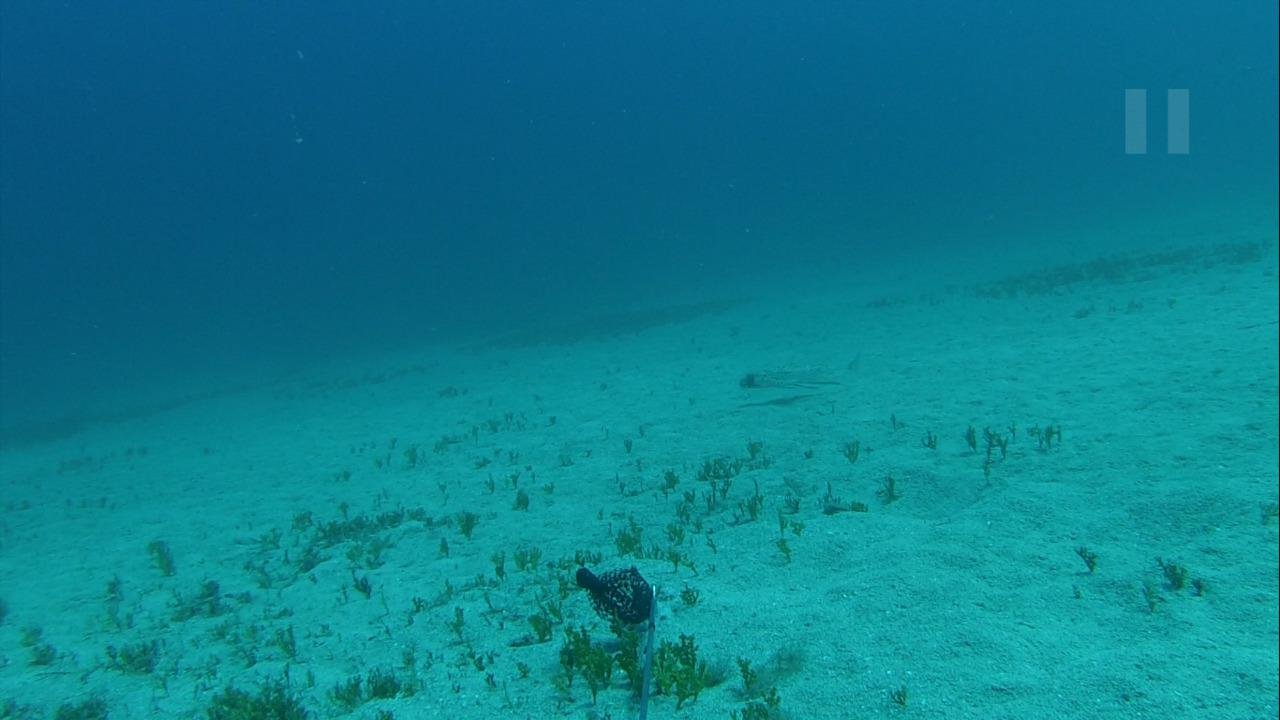dactylopterus: (728, 355, 845, 399)
